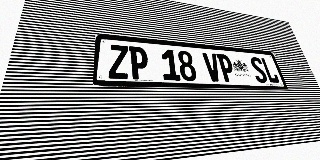1: (160, 49, 181, 81)
8: (177, 50, 197, 81)
L: (260, 57, 280, 83)
P: (129, 46, 149, 80), (216, 54, 237, 82)
S: (249, 56, 269, 83)
V: (202, 52, 223, 82)
Z: (108, 44, 129, 79)
